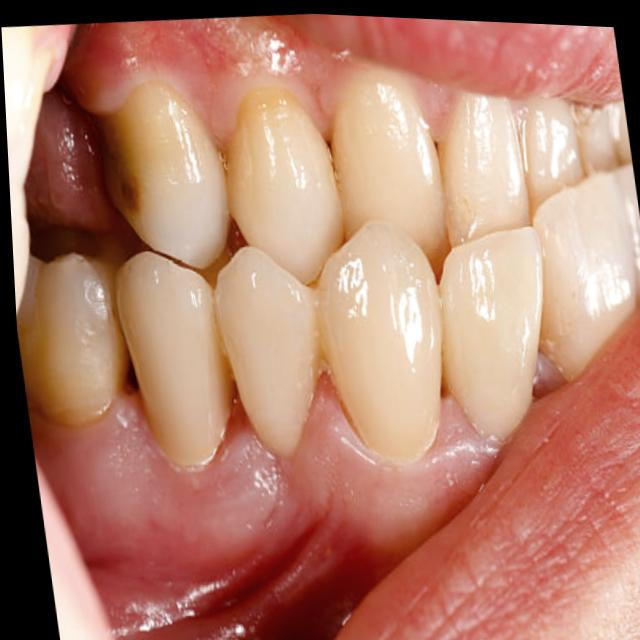gingivitis: (100, 403, 472, 538)
